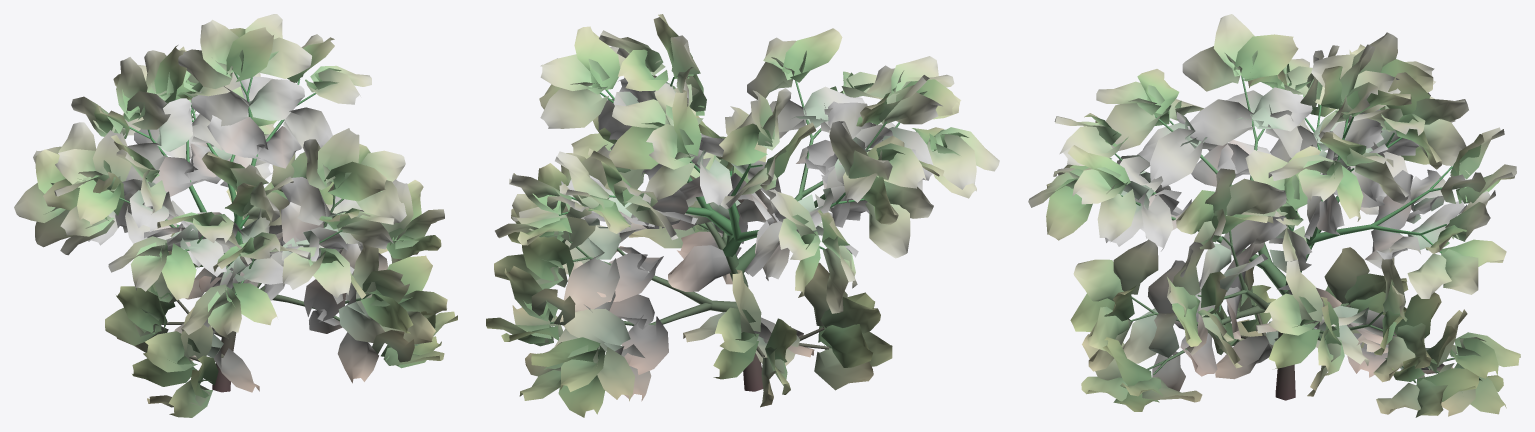
The model's file is Bushes_1.fbx.
3 renders of one model, left to right at view 1: azimuth 30°, elevation 25°; view 2: azimuth 150°, elevation 25°; view 3: azimuth 270°, elevation 25°, orthographic. The views are drawn at different scales.
Visible parts, largest first — view 1: Bush1_Leaf, Bush1_Main; view 2: Bush1_Leaf, Bush1_Main; view 3: Bush1_Leaf, Bush1_Main.
Part boxes in pixels (x1,y1,x2,y2): Bush1_Leaf: (14, 14, 457, 417); Bush1_Main: (119, 72, 371, 392); Bush1_Leaf: (486, 14, 999, 417); Bush1_Main: (550, 77, 899, 391); Bush1_Leaf: (1028, 14, 1520, 417); Bush1_Main: (1114, 75, 1454, 400).
Size of the model in its own units: 3.24 by 2.9 by 3.54.
